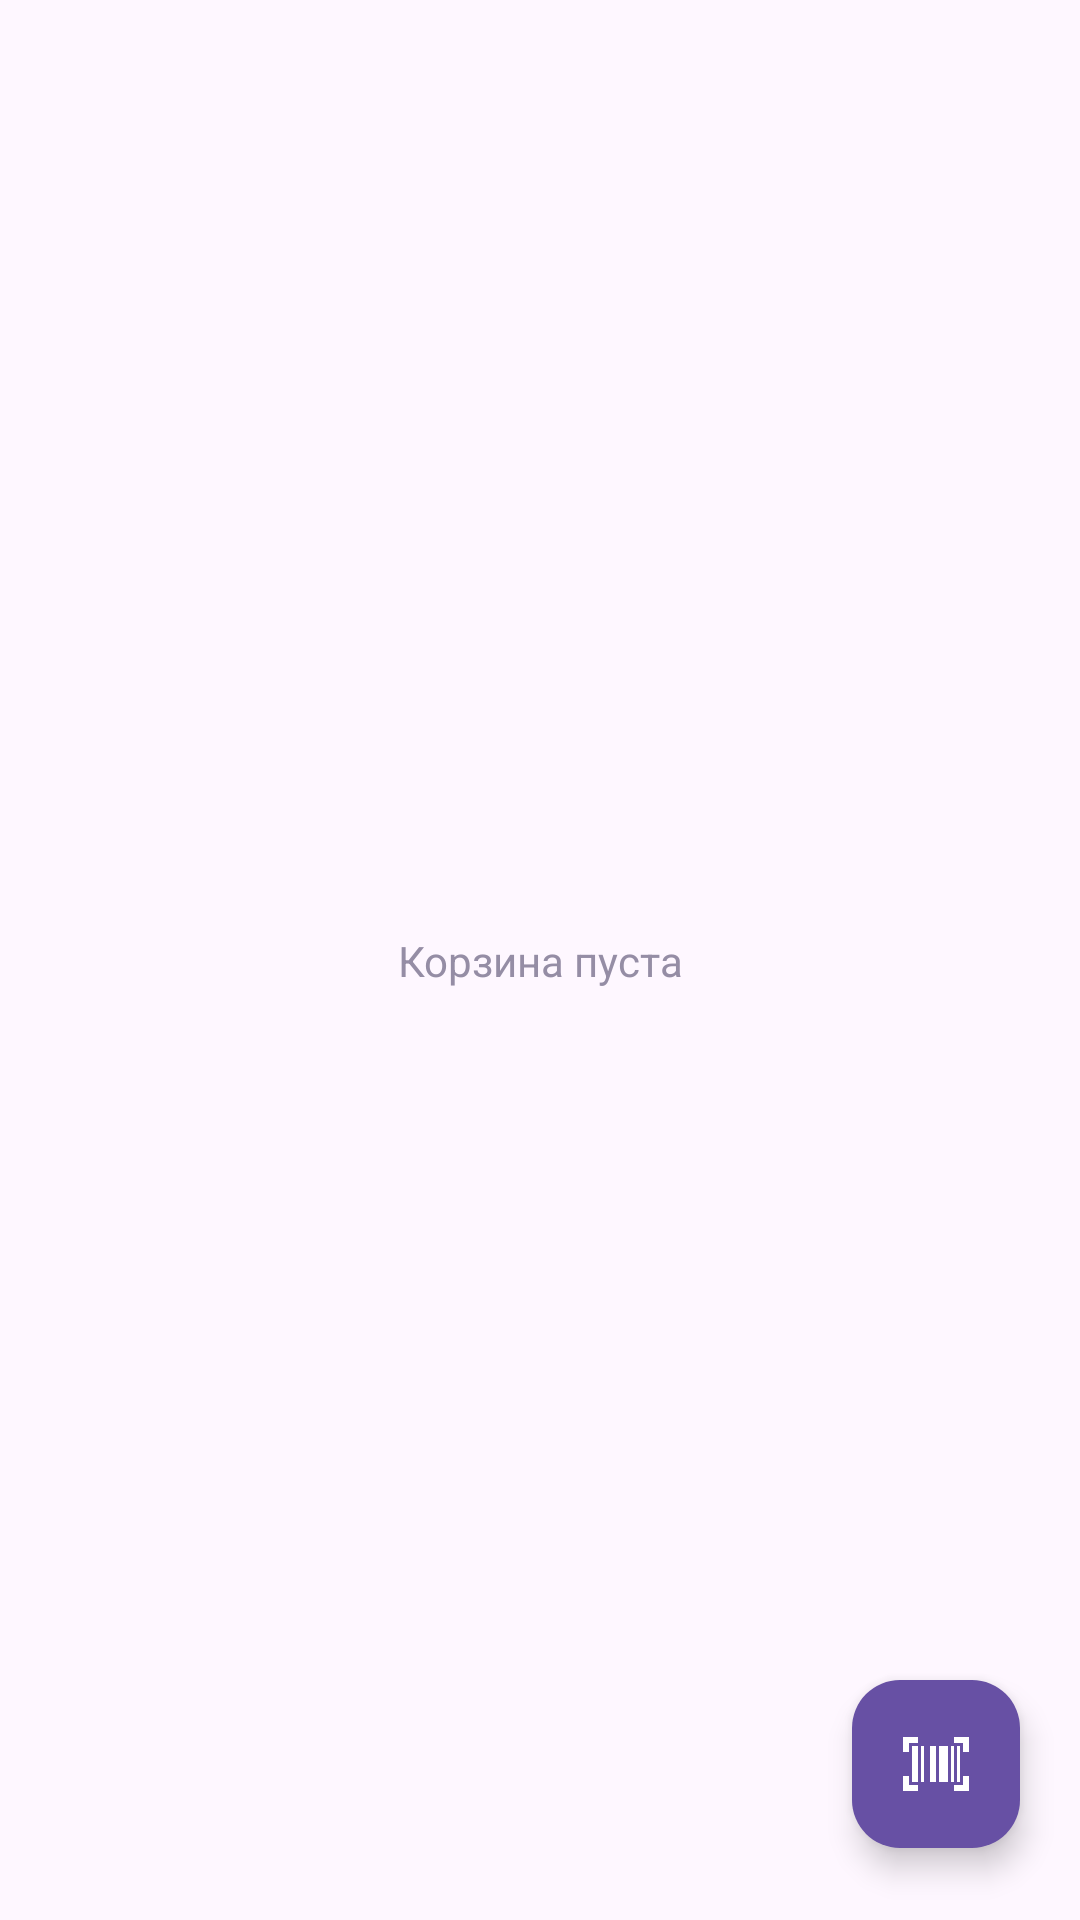

Locate icon controls on the screen. Image size 1080×1920, boxes as [x1, y1, x2, y2].
scanner: [852, 1680, 1020, 1848]
